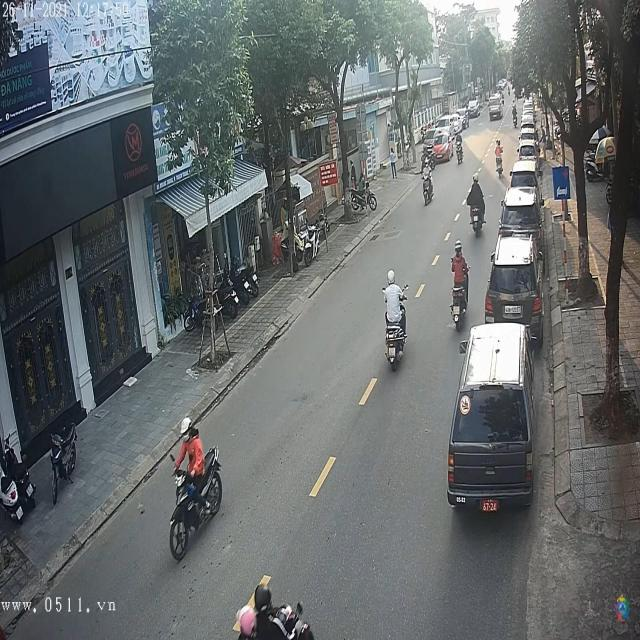car: (449, 324, 534, 510), (486, 232, 543, 332), (500, 190, 542, 238), (506, 161, 538, 200), (518, 140, 536, 160), (469, 98, 481, 116)
motorcycle: (166, 445, 225, 557), (385, 307, 411, 375), (450, 271, 471, 330), (471, 194, 486, 238), (422, 174, 433, 208)
